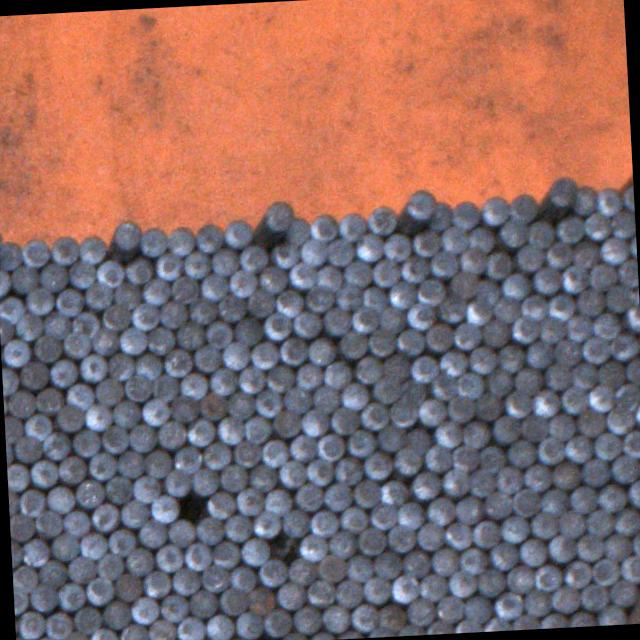tool: (405, 188, 437, 220), (20, 237, 50, 268), (50, 235, 80, 266), (264, 200, 294, 231), (400, 254, 431, 284), (166, 224, 195, 256), (138, 226, 168, 256), (336, 212, 366, 242), (366, 205, 396, 235), (508, 193, 538, 223), (38, 262, 68, 292), (234, 316, 264, 346), (609, 454, 639, 484), (570, 184, 598, 216), (113, 220, 142, 250), (223, 218, 252, 248), (480, 196, 509, 226), (548, 176, 577, 206), (42, 311, 72, 340), (49, 358, 78, 388), (140, 397, 170, 426), (168, 394, 198, 423), (294, 482, 324, 511), (539, 489, 569, 518), (298, 532, 327, 562), (356, 526, 386, 555), (66, 555, 96, 584), (585, 508, 614, 538), (218, 587, 248, 616), (506, 565, 535, 595), (492, 591, 522, 620), (355, 233, 384, 262), (247, 288, 276, 317), (322, 306, 351, 335), (235, 487, 264, 516), (511, 488, 540, 517), (85, 576, 114, 605), (78, 234, 106, 264), (195, 222, 223, 252), (308, 213, 338, 241), (451, 200, 479, 230), (594, 188, 622, 218), (572, 240, 602, 268), (264, 310, 292, 340), (604, 284, 634, 312), (480, 318, 510, 346), (124, 372, 152, 402), (322, 360, 350, 390), (389, 398, 417, 428), (330, 406, 360, 434), (358, 402, 388, 430), (262, 488, 292, 516), (568, 486, 598, 514), (522, 464, 552, 492), (167, 518, 195, 548), (484, 490, 512, 520), (454, 496, 484, 524), (426, 496, 454, 526), (200, 564, 230, 592), (18, 610, 46, 640), (316, 553, 346, 581), (400, 551, 430, 579), (390, 574, 418, 604), (590, 558, 620, 586), (406, 596, 434, 626), (155, 252, 183, 281), (182, 250, 211, 278), (372, 260, 401, 288), (2, 338, 30, 367), (204, 320, 232, 349), (293, 310, 322, 338), (405, 302, 434, 330), (438, 294, 467, 322), (193, 344, 222, 372), (222, 342, 250, 371), (251, 341, 280, 369), (426, 323, 455, 351), (512, 314, 540, 343), (7, 390, 36, 418), (582, 335, 610, 364), (13, 434, 42, 462), (128, 423, 156, 452), (606, 406, 634, 435), (593, 432, 622, 460), (150, 494, 178, 523), (207, 492, 236, 520), (252, 509, 280, 538), (322, 482, 350, 511), (416, 522, 445, 550), (183, 542, 211, 571), (418, 574, 447, 602), (238, 245, 268, 272), (102, 303, 132, 330), (524, 341, 554, 368), (156, 421, 186, 448), (416, 399, 446, 426), (576, 409, 606, 436), (275, 582, 305, 609), (437, 351, 468, 377), (68, 260, 96, 288), (96, 260, 124, 288), (211, 248, 239, 276), (300, 238, 328, 266), (383, 234, 411, 262), (500, 218, 528, 246), (528, 220, 556, 248), (583, 212, 611, 240), (54, 288, 82, 316), (142, 278, 170, 306), (170, 275, 198, 303), (229, 270, 257, 298), (259, 266, 287, 294), (132, 302, 160, 330), (160, 300, 188, 328), (275, 288, 303, 316), (389, 280, 417, 308), (533, 266, 561, 294), (118, 326, 146, 354), (146, 327, 174, 355), (176, 322, 204, 350), (576, 288, 604, 316), (164, 348, 192, 376), (566, 314, 594, 342), (592, 312, 620, 340), (34, 388, 62, 416), (66, 382, 94, 410), (95, 378, 123, 406), (24, 414, 52, 442), (112, 400, 140, 428), (410, 355, 438, 383), (496, 344, 524, 372), (597, 361, 625, 389), (198, 392, 226, 420), (226, 392, 254, 420), (340, 383, 368, 411), (372, 376, 400, 404), (474, 392, 502, 420), (71, 429, 99, 457), (100, 425, 128, 453), (272, 410, 300, 438), (172, 446, 200, 474), (288, 434, 316, 462), (536, 436, 564, 464), (46, 486, 74, 514), (76, 480, 104, 508), (132, 475, 160, 503), (219, 464, 247, 492), (248, 464, 276, 492), (278, 459, 306, 487), (362, 452, 390, 480), (333, 456, 361, 484), (450, 444, 478, 472), (581, 459, 609, 487), (552, 462, 580, 490), (90, 503, 118, 531), (120, 500, 148, 528), (138, 520, 166, 548), (196, 516, 224, 544), (224, 514, 252, 542), (282, 509, 310, 537), (494, 466, 522, 494), (338, 506, 366, 534), (328, 530, 356, 558), (386, 524, 414, 552), (444, 522, 472, 550), (21, 538, 49, 566), (125, 548, 153, 576), (154, 544, 182, 572), (240, 538, 268, 566), (258, 558, 286, 586), (288, 557, 316, 585), (472, 520, 500, 548), (29, 584, 57, 612), (73, 606, 101, 634), (130, 596, 158, 624), (160, 594, 188, 622), (188, 590, 216, 618), (344, 554, 372, 582), (372, 552, 400, 580), (431, 548, 459, 576), (459, 547, 487, 575), (490, 542, 518, 570), (518, 538, 546, 566), (546, 534, 574, 562), (306, 579, 334, 607), (334, 580, 362, 608), (448, 570, 476, 598), (476, 569, 504, 597), (534, 564, 562, 592), (563, 561, 591, 589), (292, 606, 320, 634), (376, 604, 404, 632), (551, 586, 579, 614), (343, 260, 372, 287), (15, 313, 42, 342), (217, 293, 246, 320), (305, 284, 334, 311), (62, 331, 91, 358), (19, 362, 48, 389), (339, 331, 368, 358), (454, 322, 481, 351), (507, 440, 536, 467), (309, 509, 338, 536), (426, 200, 452, 230), (312, 384, 338, 414), (546, 414, 576, 440), (562, 436, 592, 462), (114, 572, 140, 602), (124, 257, 152, 284), (441, 226, 468, 254), (557, 216, 584, 244), (26, 287, 54, 314), (84, 281, 112, 308), (200, 274, 227, 302), (459, 246, 486, 274), (516, 244, 544, 271), (600, 237, 628, 264), (588, 263, 616, 290), (71, 312, 99, 339), (416, 278, 444, 305), (502, 272, 530, 299), (90, 327, 117, 355), (134, 353, 162, 380), (56, 404, 84, 431), (84, 403, 111, 431), (180, 372, 207, 400), (554, 339, 582, 366), (255, 391, 282, 419), (532, 390, 559, 418), (504, 391, 532, 418), (42, 432, 70, 459), (186, 418, 213, 446), (243, 416, 270, 444), (300, 409, 328, 436), (447, 394, 474, 422), (88, 452, 116, 479), (202, 442, 230, 469), (234, 440, 262, 467), (261, 439, 288, 467), (316, 433, 343, 461), (105, 476, 132, 504), (393, 446, 420, 474), (424, 444, 451, 472), (34, 509, 62, 536), (353, 480, 380, 508), (108, 528, 135, 556), (39, 560, 66, 588), (500, 515, 527, 543), (558, 510, 585, 538), (613, 507, 640, 535), (142, 570, 170, 597), (172, 568, 200, 595), (44, 612, 71, 640), (575, 532, 602, 560), (204, 613, 232, 640), (362, 576, 389, 604), (321, 605, 348, 633), (349, 603, 376, 631), (462, 596, 490, 623), (523, 589, 551, 616), (579, 584, 607, 611), (285, 217, 311, 246), (33, 336, 62, 362), (80, 353, 106, 382), (279, 338, 308, 364), (380, 356, 409, 382), (29, 460, 58, 486), (115, 451, 144, 477), (249, 586, 275, 615), (609, 334, 639, 359), (114, 282, 141, 309), (451, 271, 478, 298), (351, 305, 378, 332), (307, 338, 334, 365), (237, 367, 264, 394), (469, 347, 496, 374), (284, 387, 311, 414), (515, 367, 542, 394), (144, 450, 171, 477), (305, 459, 332, 486), (412, 472, 439, 499), (369, 502, 396, 529), (530, 511, 557, 538), (10, 266, 38, 292), (328, 238, 354, 266), (610, 210, 636, 238), (288, 262, 316, 288), (430, 251, 458, 277), (562, 264, 588, 292), (492, 297, 520, 323), (520, 294, 548, 320), (546, 295, 574, 321), (540, 316, 568, 342), (152, 374, 178, 402), (294, 364, 322, 390), (562, 386, 588, 414), (614, 383, 640, 411), (346, 430, 374, 456), (434, 422, 462, 448), (460, 422, 488, 448), (192, 468, 218, 496), (596, 486, 624, 512), (52, 534, 80, 560), (97, 553, 123, 581), (102, 602, 130, 628), (603, 534, 631, 560), (608, 580, 636, 606), (436, 596, 464, 622), (367, 331, 396, 356), (0, 240, 23, 271), (413, 230, 440, 256), (468, 226, 494, 253), (316, 265, 342, 292), (378, 306, 404, 333), (397, 330, 424, 356), (210, 368, 236, 395), (456, 372, 483, 398), (58, 456, 85, 482), (18, 489, 44, 516), (164, 469, 190, 496), (379, 480, 406, 506), (442, 468, 468, 495), (396, 502, 422, 529), (58, 583, 84, 610), (228, 566, 255, 592), (235, 612, 262, 638), (266, 367, 294, 392), (354, 357, 382, 382), (570, 364, 598, 389), (519, 416, 547, 441), (62, 511, 90, 536), (468, 469, 493, 497), (546, 242, 572, 268), (336, 284, 362, 310), (474, 280, 500, 306), (465, 298, 491, 324), (432, 374, 458, 400), (218, 418, 244, 444), (588, 386, 614, 412), (492, 415, 518, 441), (80, 532, 106, 558), (212, 542, 238, 568), (264, 610, 290, 636), (486, 251, 511, 278), (109, 352, 134, 379), (478, 446, 503, 473), (271, 244, 299, 268), (190, 300, 218, 324), (176, 616, 204, 640), (596, 604, 626, 626), (362, 286, 387, 312), (546, 364, 570, 391), (10, 514, 34, 541), (0, 296, 23, 324), (376, 428, 402, 452), (13, 565, 36, 592), (148, 617, 175, 640), (488, 370, 512, 395), (8, 464, 30, 491), (619, 555, 640, 583), (406, 430, 430, 454), (618, 259, 638, 287), (119, 623, 149, 640), (623, 430, 640, 457), (5, 418, 23, 443), (2, 367, 18, 395), (539, 612, 567, 628), (512, 613, 538, 630), (483, 616, 510, 632), (567, 612, 594, 628), (13, 586, 28, 614), (454, 618, 482, 633), (425, 620, 454, 634), (626, 479, 640, 507), (0, 315, 13, 344), (625, 359, 640, 384), (627, 303, 640, 331), (89, 627, 117, 640), (0, 269, 11, 296), (631, 530, 640, 558), (61, 631, 89, 640), (16, 636, 33, 640)
tool_b: (265, 530, 298, 560), (400, 380, 426, 408)
void: (176, 490, 208, 517)
